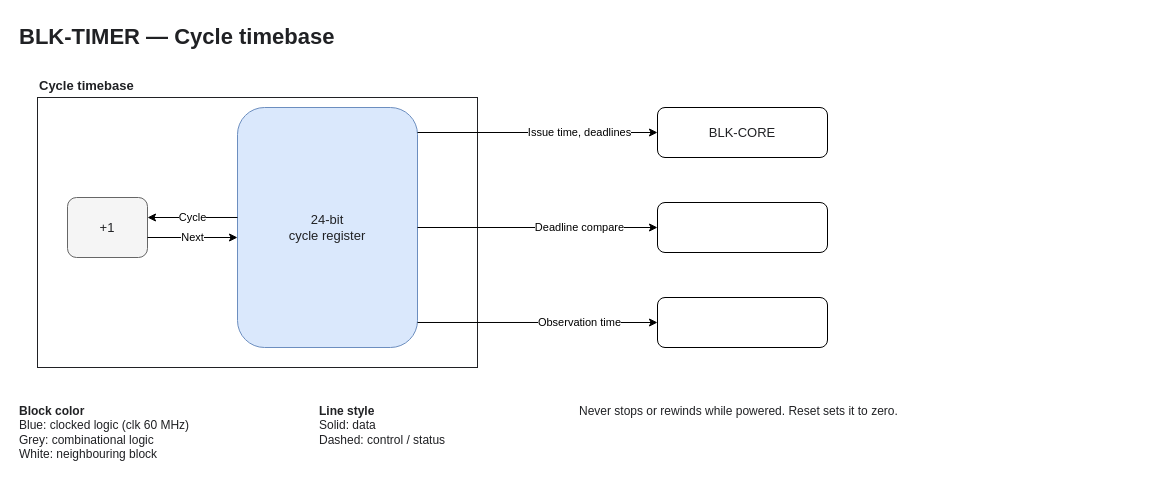
Some shapes in this 1154 by 484 pixel diagram are drawn without their labels. The shapes that lost their labels are listed below. From the top down, each one's box as (x1, y1, x2, y2) in pixels, then its label:
(656, 202, 828, 252): BLK-DRIVE
(656, 296, 828, 348): BLK-CAPTURE
